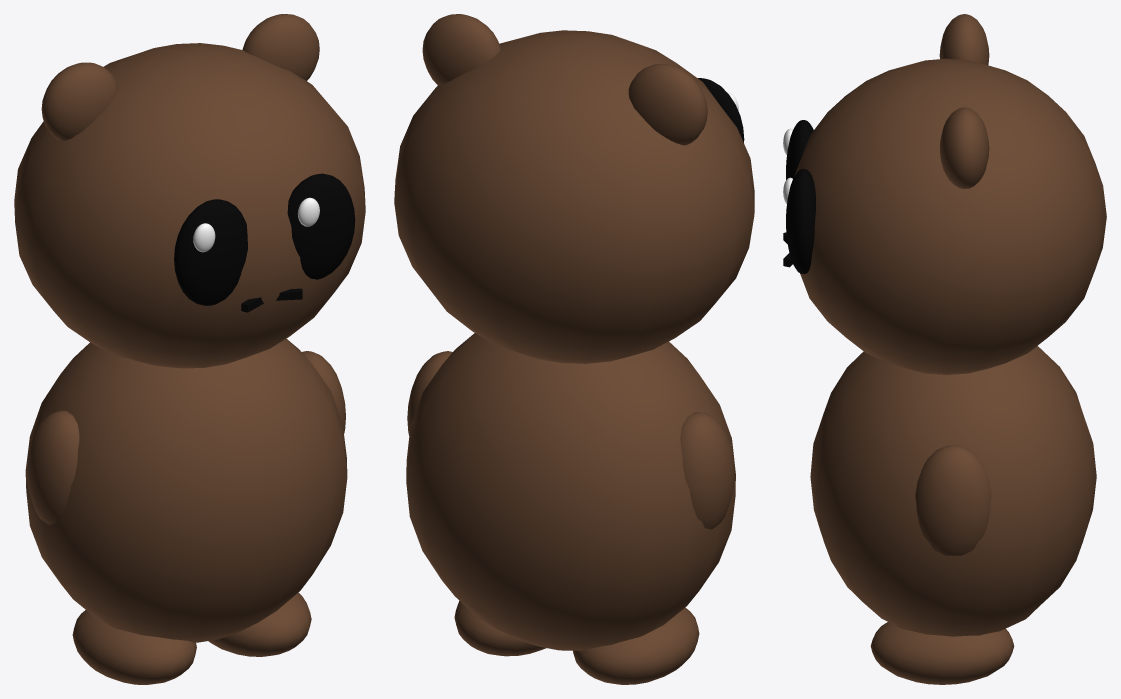
The model's file is bear.glb.
3 renders of one model, left to right at view 1: azimuth 30°, elevation 25°; view 2: azimuth 150°, elevation 25°; view 3: azimuth 270°, elevation 25°, orthographic. The views are drawn at different scales.
Parts seen in each view (by area): view 1: Head, Body, EyeL, FootL, EyeR, ArmL, EarL, EarR, FootR, ArmR; view 2: Head, Body, FootL, ArmL, EarL, EarR, FootR, ArmR, EyeL; view 3: Head, Body, ArmR, FootR, EarR, EyeR, EarL, EyeL.
Part boxes in pixels (bbox=[...]): Head: bbox=[14, 43, 365, 368]; Body: bbox=[25, 338, 347, 642]; EyeL: bbox=[174, 199, 247, 305]; FootL: bbox=[72, 610, 196, 684]; EyeR: bbox=[287, 173, 355, 279]; ArmL: bbox=[26, 410, 79, 524]; EarL: bbox=[41, 62, 118, 141]; EarR: bbox=[242, 14, 319, 80]; FootR: bbox=[208, 592, 311, 656]; ArmR: bbox=[302, 351, 345, 433]; Head: bbox=[394, 30, 754, 363]; Body: bbox=[406, 333, 735, 650]; FootL: bbox=[573, 607, 699, 684]; ArmL: bbox=[680, 412, 734, 529]; EarL: bbox=[628, 64, 707, 145]; EarR: bbox=[422, 14, 501, 85]; FootR: bbox=[454, 601, 546, 656]; ArmR: bbox=[407, 351, 452, 435]; EyeL: bbox=[698, 78, 744, 142]; Head: bbox=[794, 58, 1106, 374]; Body: bbox=[810, 346, 1096, 636]; ArmR: bbox=[915, 445, 991, 555]; FootR: bbox=[870, 622, 1014, 684]; EarR: bbox=[939, 107, 989, 188]; EyeR: bbox=[786, 169, 815, 273]; EarL: bbox=[939, 14, 989, 65]; EyeL: bbox=[786, 120, 813, 179].
Bounding box in the file's own units: 0.9137 × 1.7 × 0.8513.
